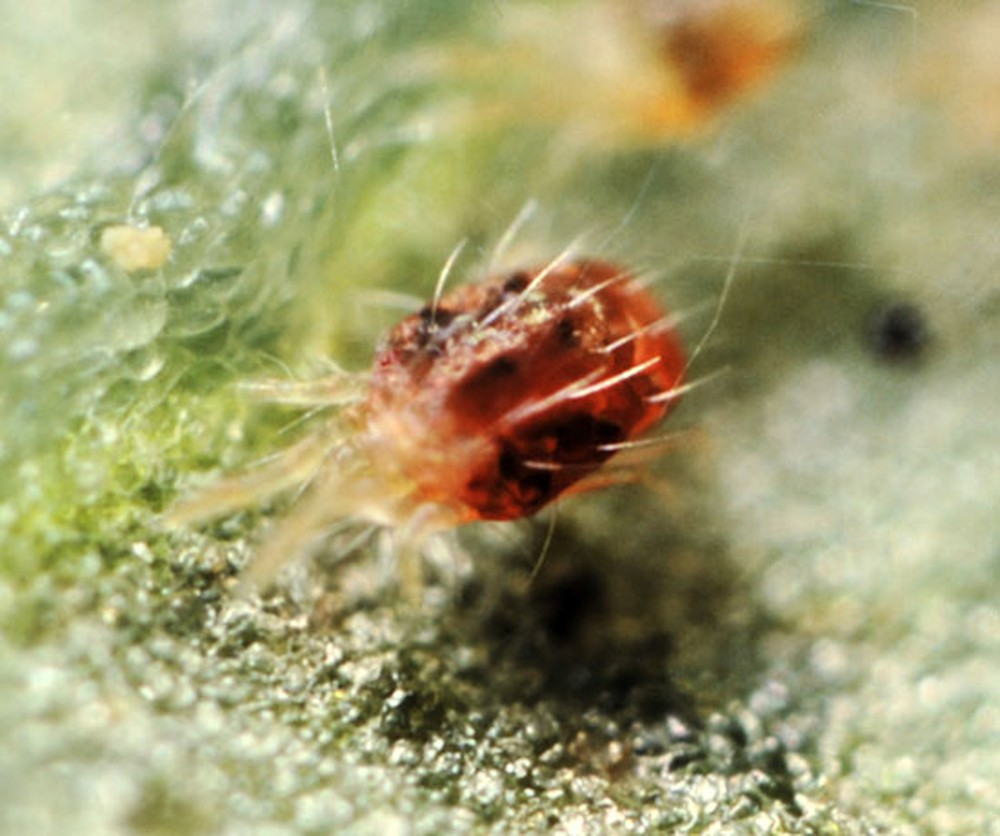Aracnido Rojo: (149, 202, 761, 659)
